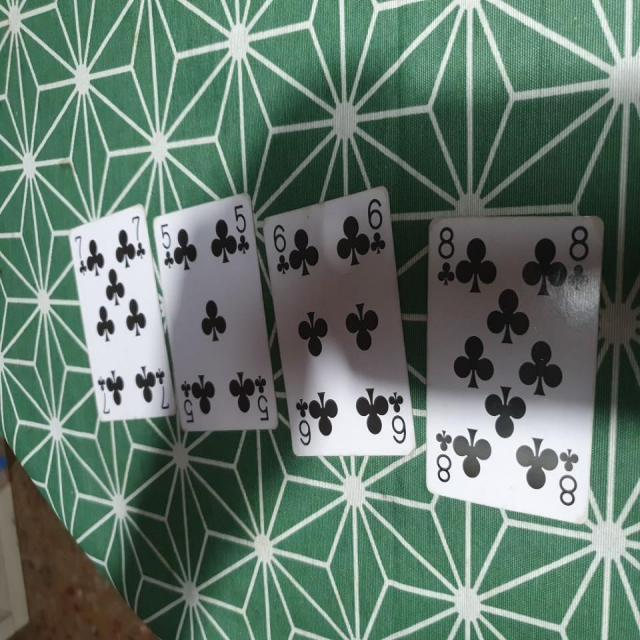5 Trefoils: (150, 191, 279, 432)
6 Trefoils: (262, 185, 419, 460)
7 Trefoils: (67, 201, 176, 422)
8 Trefoils: (427, 213, 605, 526)
